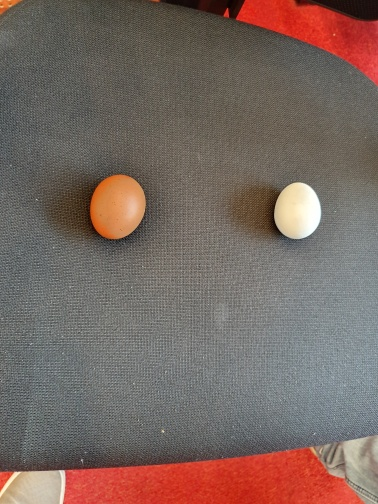egg: (91, 173, 145, 240), (273, 178, 321, 243)
